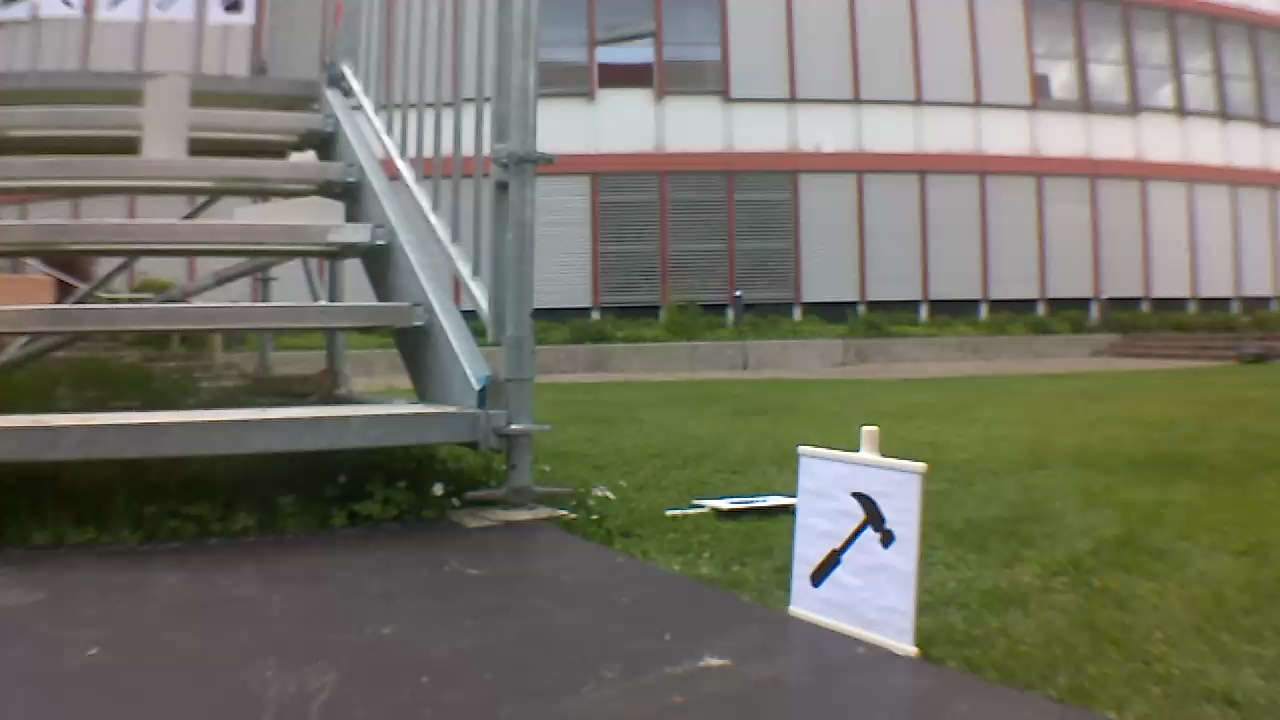brick: (144, 75, 186, 157), (234, 194, 343, 222), (1, 274, 51, 305)
hammer: (802, 479, 902, 602)
stairs: (3, 4, 574, 527)
